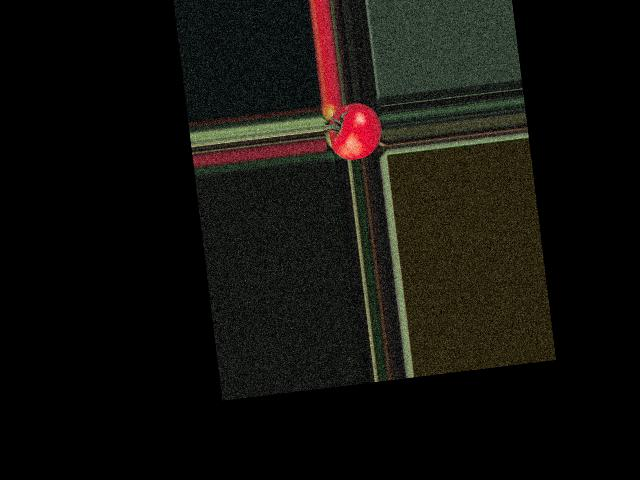tomato: (326, 101, 385, 162)
